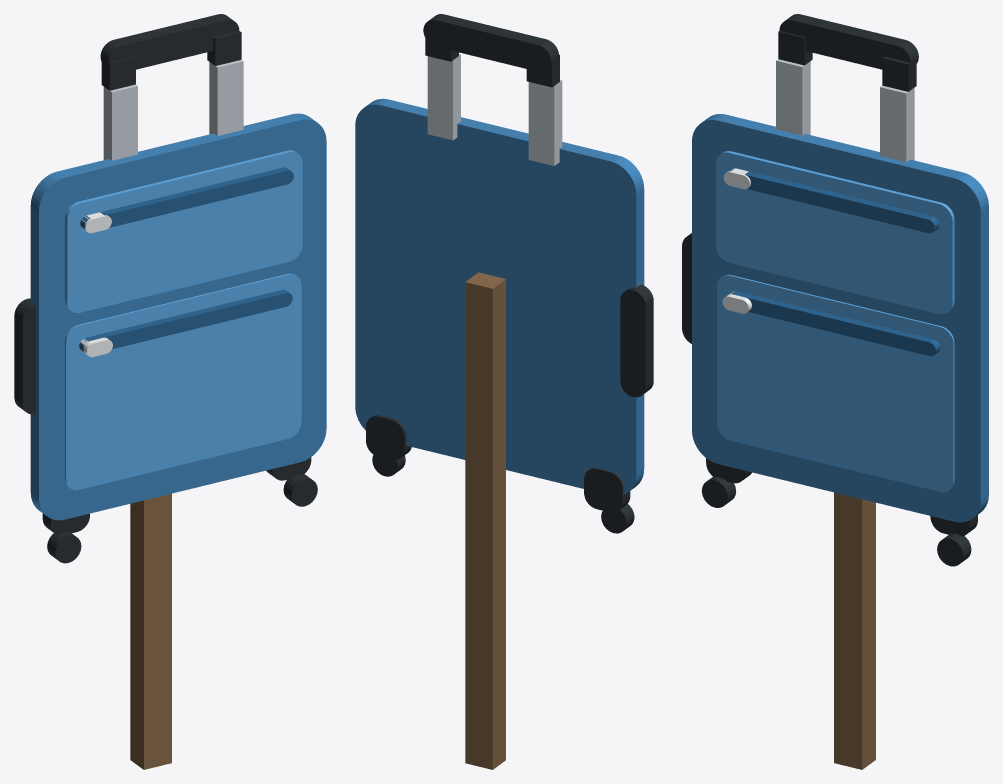
File: valise.glb
3 renders of one model, left to right at view 1: azimuth 30°, elevation 25°; view 2: azimuth 150°, elevation 25°; view 3: azimuth 330°, elevation 25°, orthographic. The views are drawn at different scales.
Bounding box in the file's own units: 0.6389 × 1.5 × 0.149.
